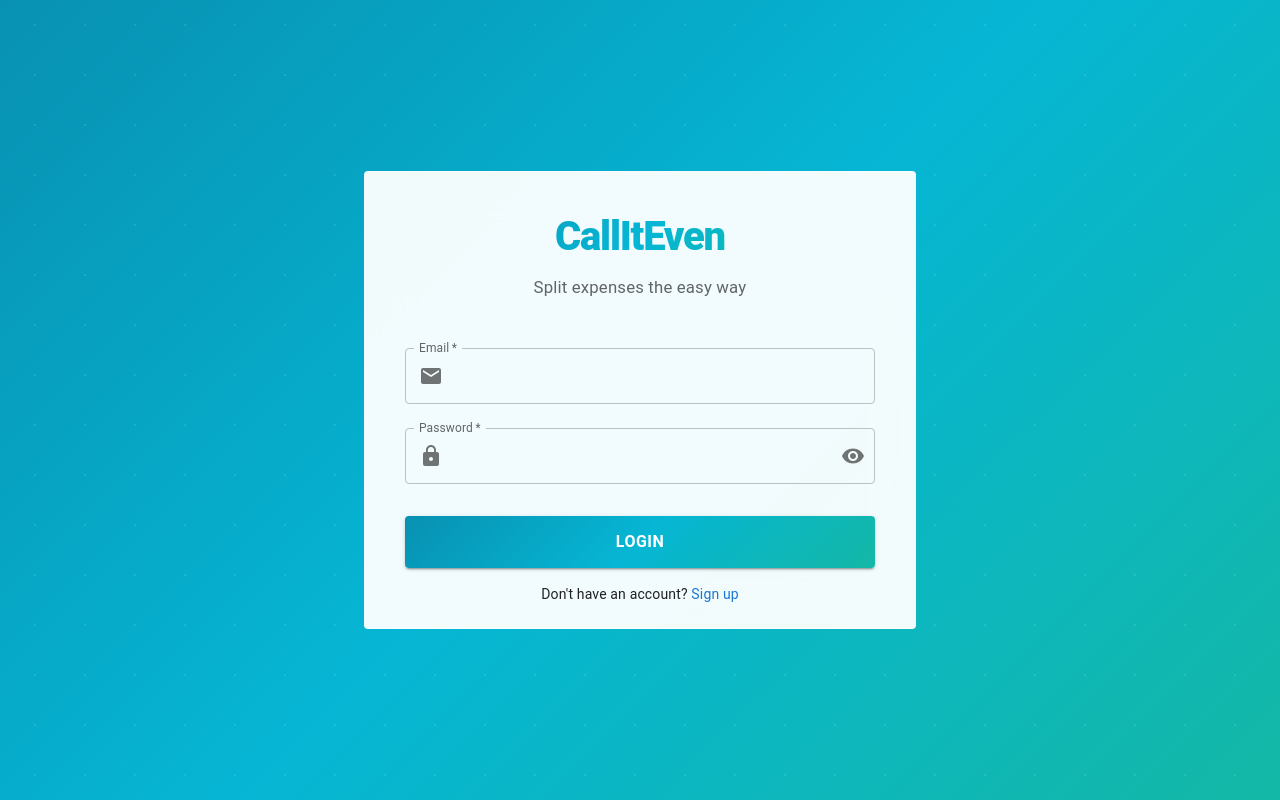
Test: Login Page › should show generic error when no response message
Type "test@example.com" into the field labelled "Email *". click: (663, 376)
box: [451,348,875,404]
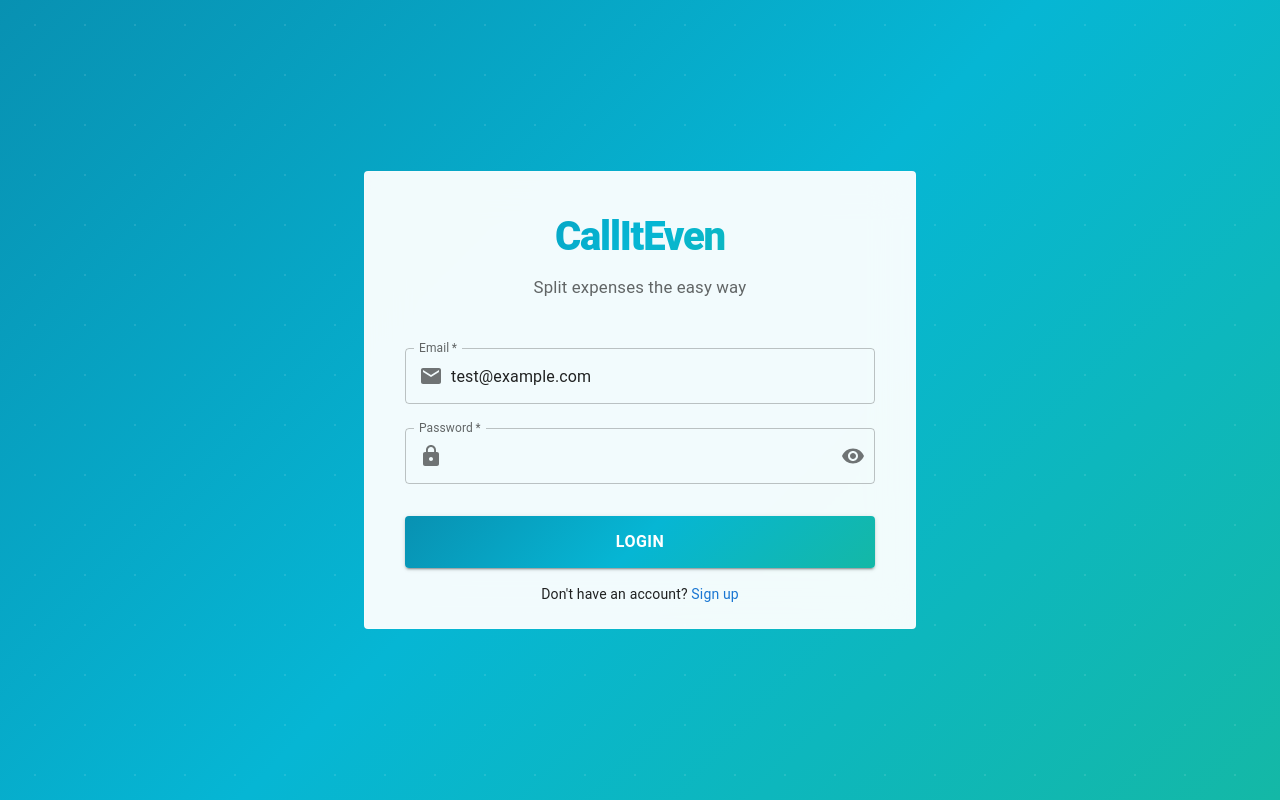
Type "password123" into the password field labelled "Password *". click: (638, 456)
box: [451,428,825,484]
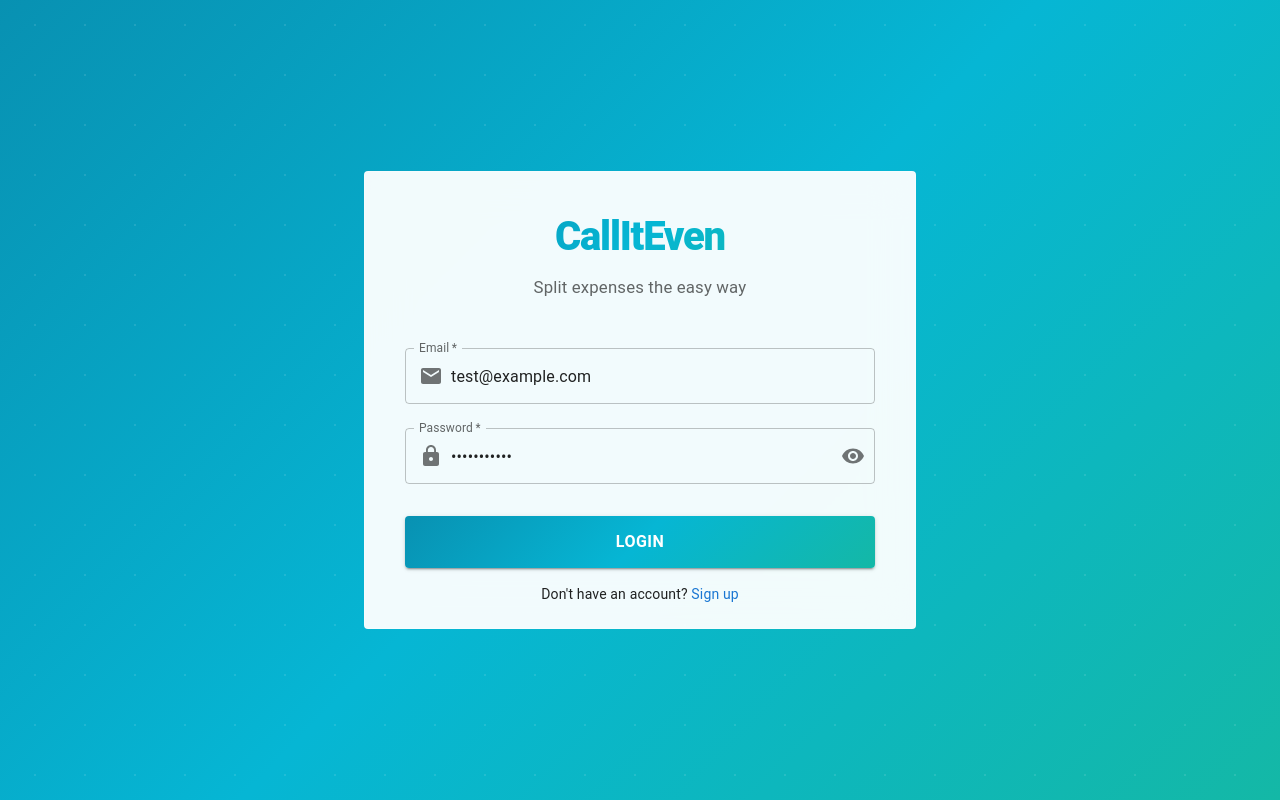
Click the button "Login". click: (640, 542)
box: [405,516,875,568]
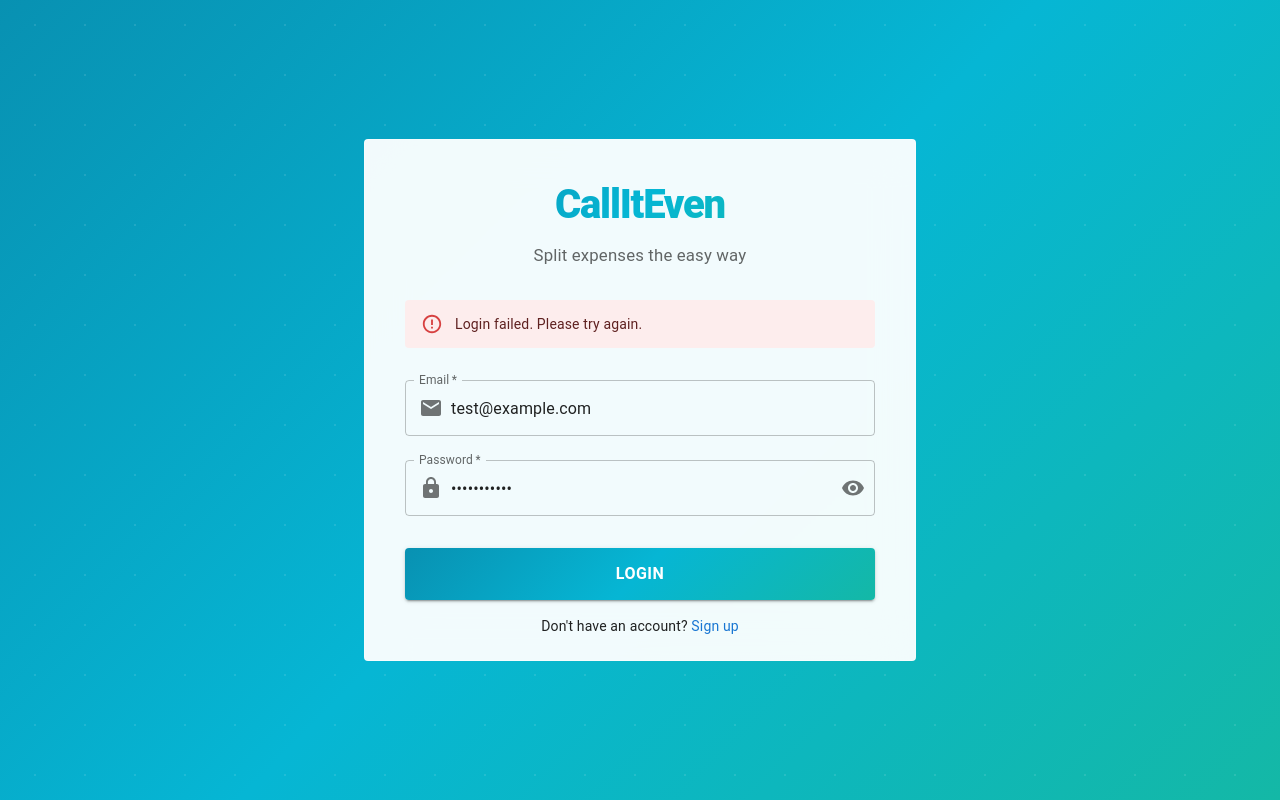
Result: the text "Login failed. Please try again." is shown at [455,316,642,332]
